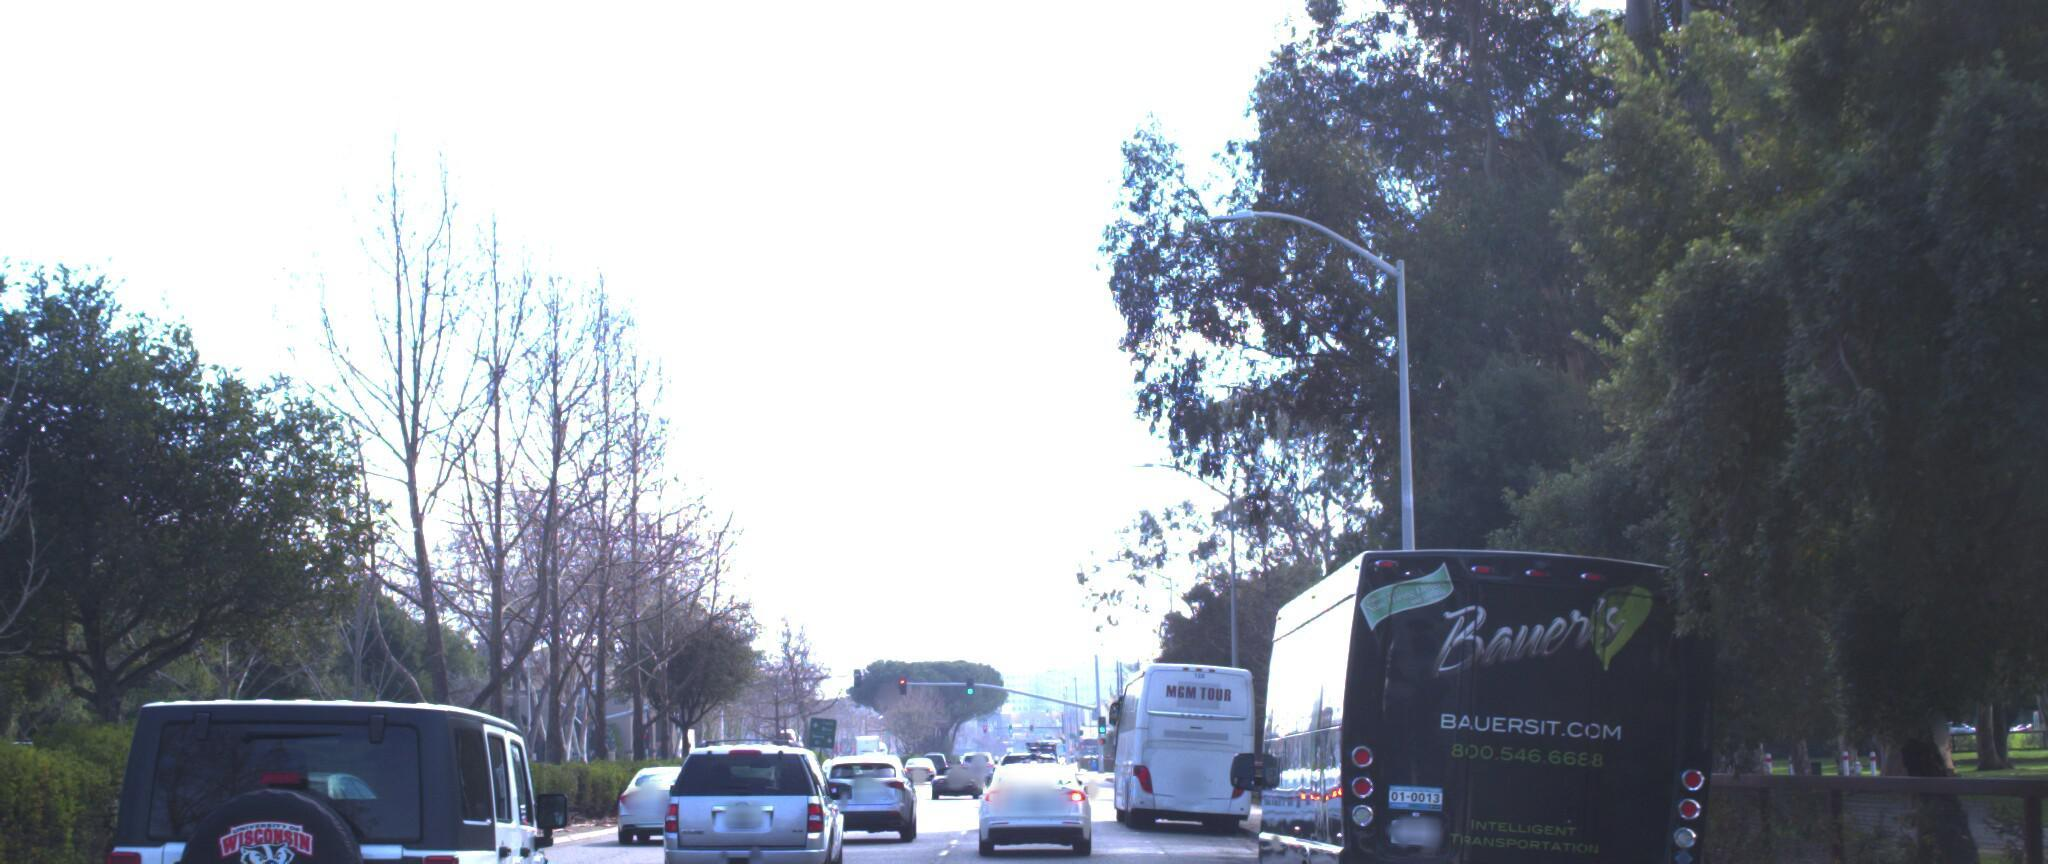bus: (1209, 539, 1731, 864), (1092, 650, 1266, 837)
car: (50, 690, 610, 864), (643, 730, 839, 864), (967, 756, 1085, 854), (585, 767, 717, 850), (822, 747, 926, 839)
